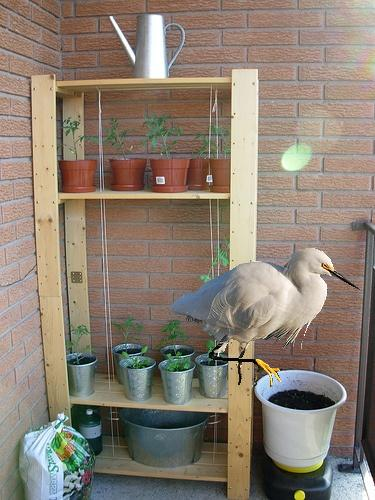tampered: (172, 249, 362, 387)
